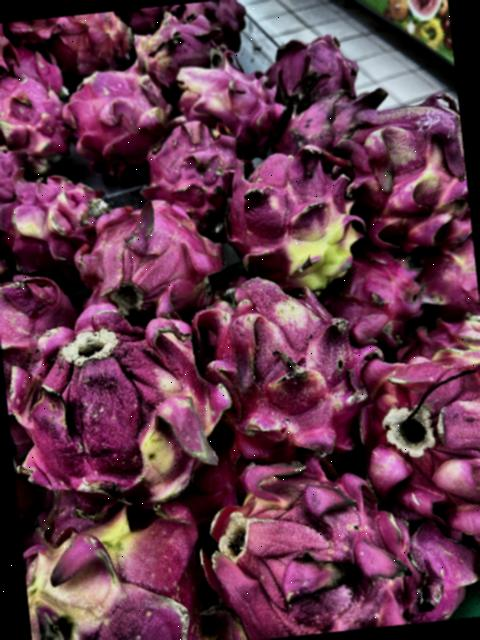buah-naga-belum-matang: (19, 294, 219, 492), (192, 264, 366, 458), (17, 475, 200, 640), (228, 152, 365, 302), (339, 95, 472, 249), (176, 51, 290, 156), (0, 167, 101, 269), (0, 62, 72, 175), (132, 14, 218, 83), (57, 10, 135, 67)
buah-naga-matang: (201, 440, 409, 640), (346, 332, 480, 537), (74, 188, 220, 314), (59, 60, 170, 166), (139, 108, 245, 215), (324, 243, 430, 344), (266, 28, 372, 107), (0, 268, 76, 374), (276, 81, 376, 143), (419, 233, 480, 321)
